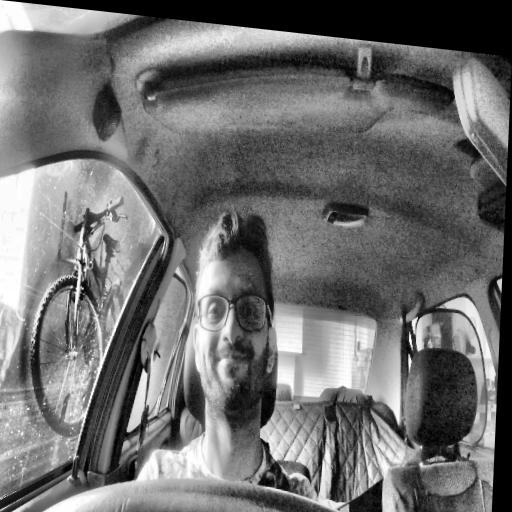awake: (187, 205, 283, 431)
